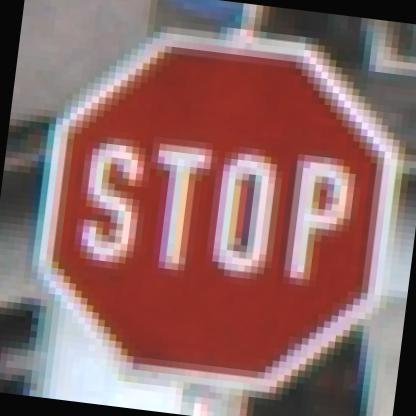stop: (2, 12, 415, 409)
